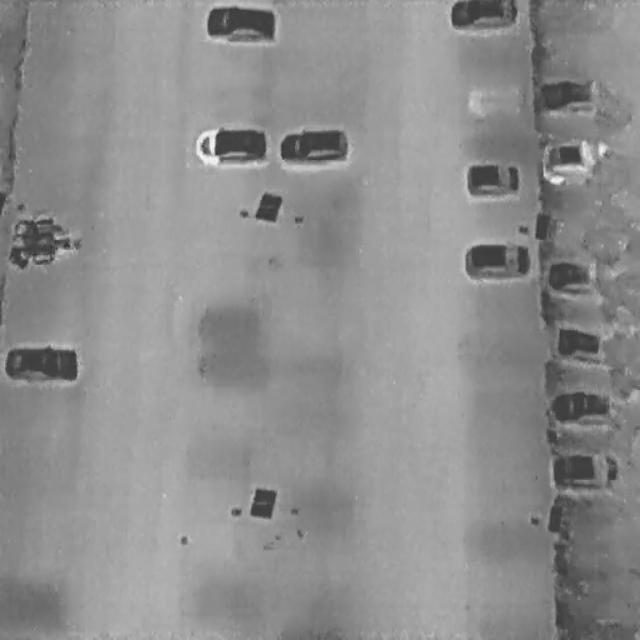Car: (277, 122, 349, 164), (4, 345, 78, 383), (194, 125, 266, 164), (205, 5, 276, 44), (551, 388, 615, 427), (465, 240, 530, 278), (551, 452, 618, 488), (554, 325, 610, 364), (451, 0, 517, 30), (466, 160, 520, 196), (547, 140, 600, 176), (540, 80, 596, 114), (549, 258, 602, 292)
